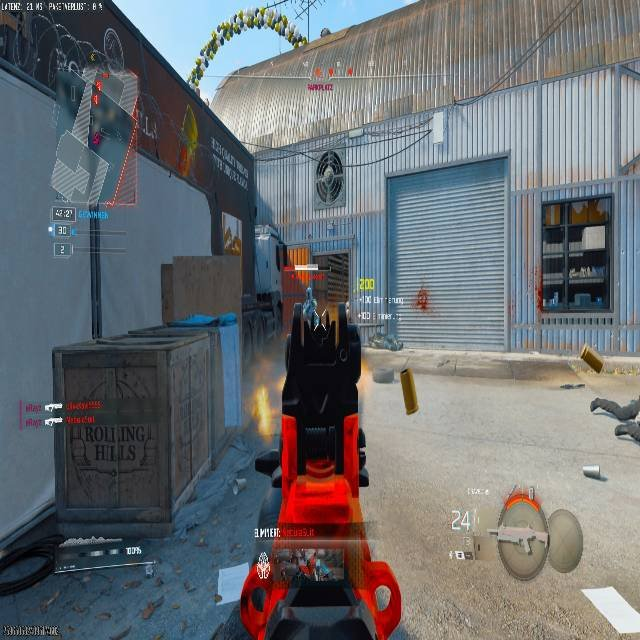player: (314, 149, 345, 206)
